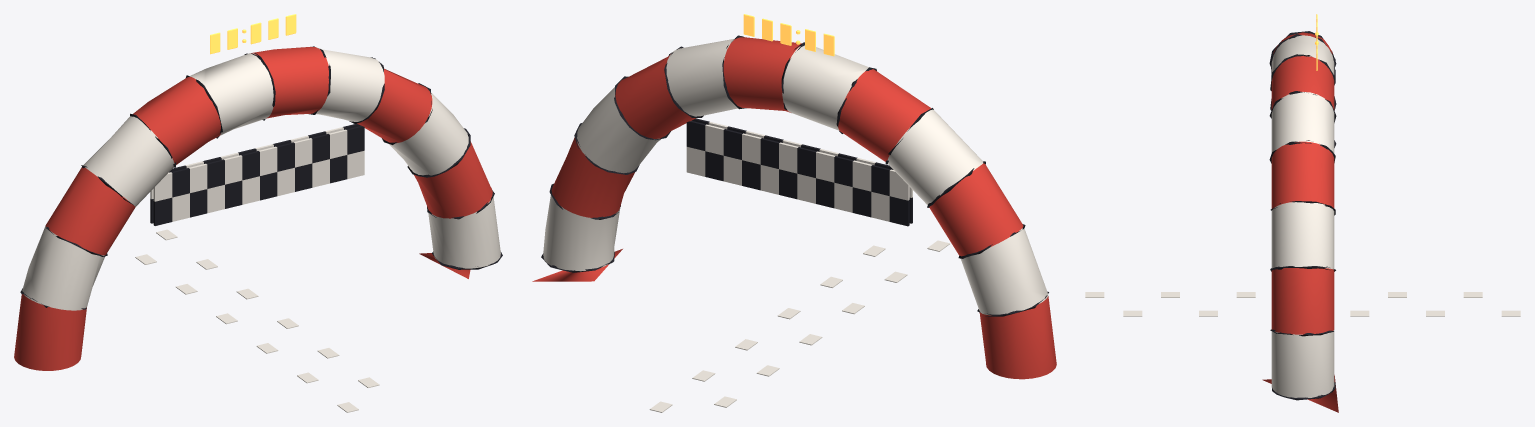
File: finish_arch.glb
3 views of the same model, side by side, from view 1: azimuth 30°, elevation 25°; view 2: azimuth 150°, elevation 25°; view 3: azimuth 270°, elevation 25° (orthographic). The views are drawn at different scales.
Visible parts, largest first — view 1: finish_arch; view 2: finish_arch; view 3: finish_arch.
Part boxes in pixels (left/top/right/bottom): finish_arch: left=14, top=14, right=502, bottom=412; finish_arch: left=532, top=14, right=1056, bottom=412; finish_arch: left=1085, top=14, right=1520, bottom=412.
Bounding box in the file's own units: 8.23 × 4.78 × 6.9.
Materials: 1 (1 with a texture image).
